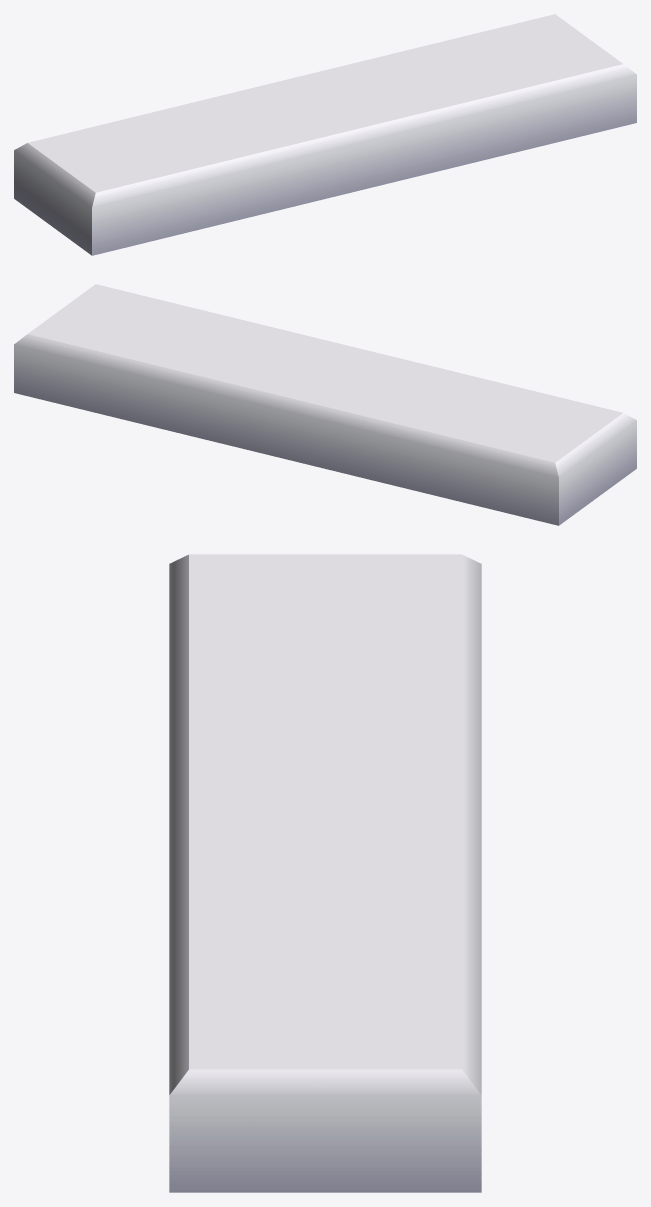
The model's file is none-hq-plate-1x4.glb.
The picture shows the model from 3 angles, top to bottom: view 1: azimuth 30°, elevation 25°; view 2: azimuth 150°, elevation 25°; view 3: azimuth 270°, elevation 25°; orthographic projection. The views are drawn at different scales.
Parts seen in each view (by area): view 1: none-hq-plate-1x4; view 2: none-hq-plate-1x4; view 3: none-hq-plate-1x4.
Boxes of the visible parts, x1,y1,x2,y2 form: none-hq-plate-1x4: (14, 14, 636, 255); none-hq-plate-1x4: (14, 284, 636, 525); none-hq-plate-1x4: (169, 554, 481, 1192).
Bounding box in the file's own units: 0.318 × 0.032 × 0.079.
Materials: 1 (1 with a texture image).
